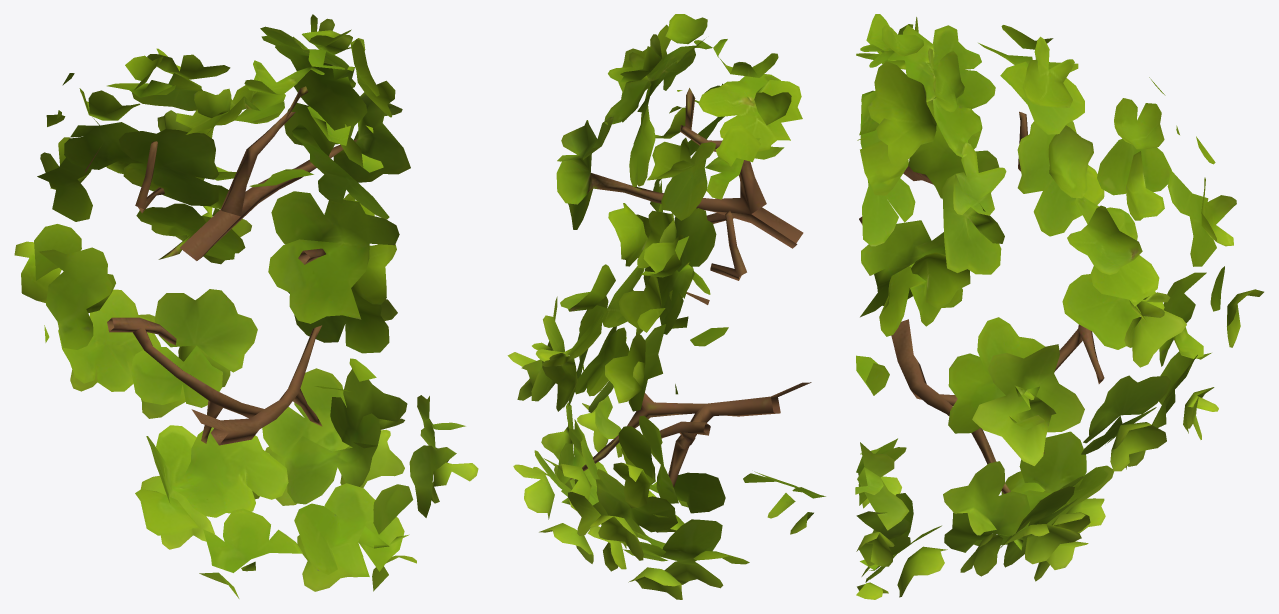
Rendered from ForegroundBranch_B.fbx.
3 renders of one model, left to right at view 1: azimuth 30°, elevation 25°; view 2: azimuth 150°, elevation 25°; view 3: azimuth 270°, elevation 25°, orthographic. The views are drawn at different scales.
Parts seen in each view (by area): view 1: ForegroundBranch_B; view 2: ForegroundBranch_B; view 3: ForegroundBranch_B.
Part boxes in pixels (left/top/right/bottom): ForegroundBranch_B: left=14, top=14, right=478, bottom=598; ForegroundBranch_B: left=507, top=14, right=825, bottom=599; ForegroundBranch_B: left=855, top=14, right=1263, bottom=599.
Bounding box in the file's own units: 1.13 × 2.29 × 1.53.
